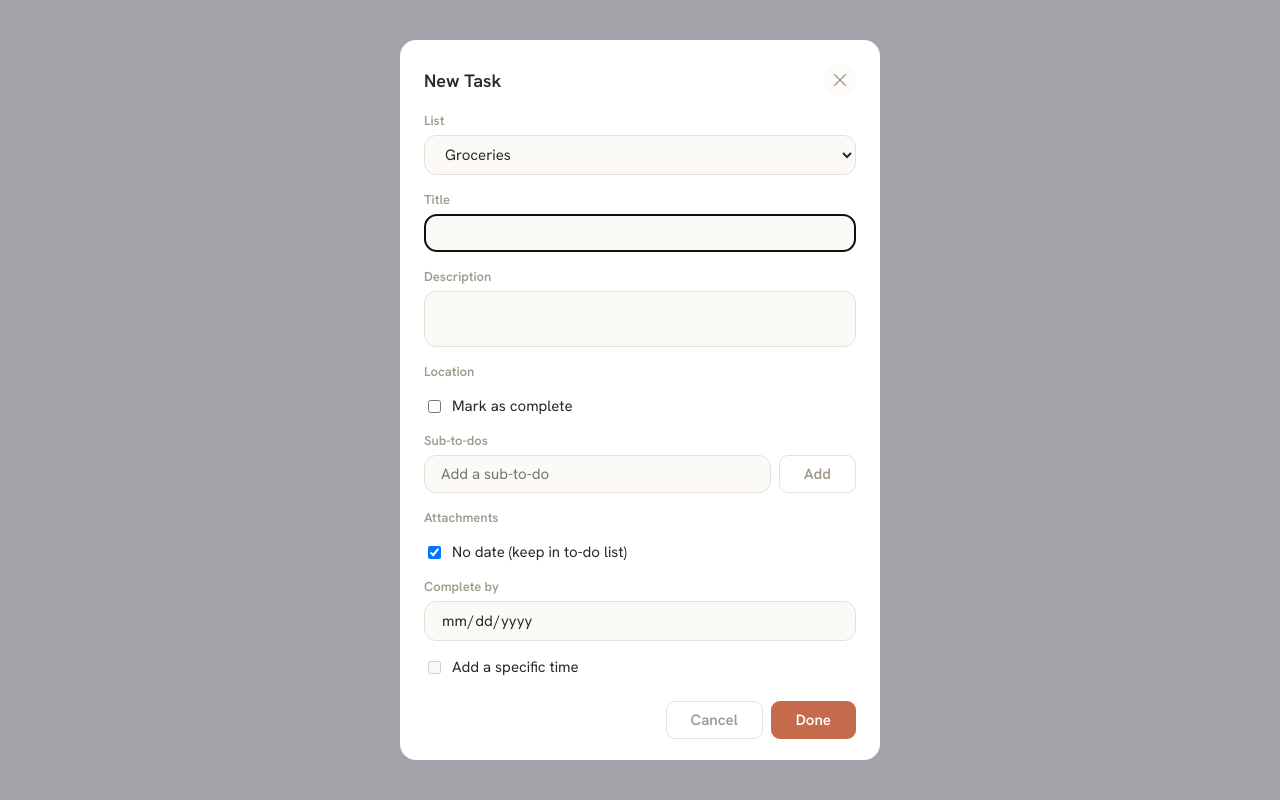
Scenario: PlanItemModal › keeps the old title when the rename is left empty
The image size is (1280, 800).
Type "Pack bag" into the field with placeholder "Add a sub-to-do". click: (597,474)
box: [424,455,771,493]
Then press Enter
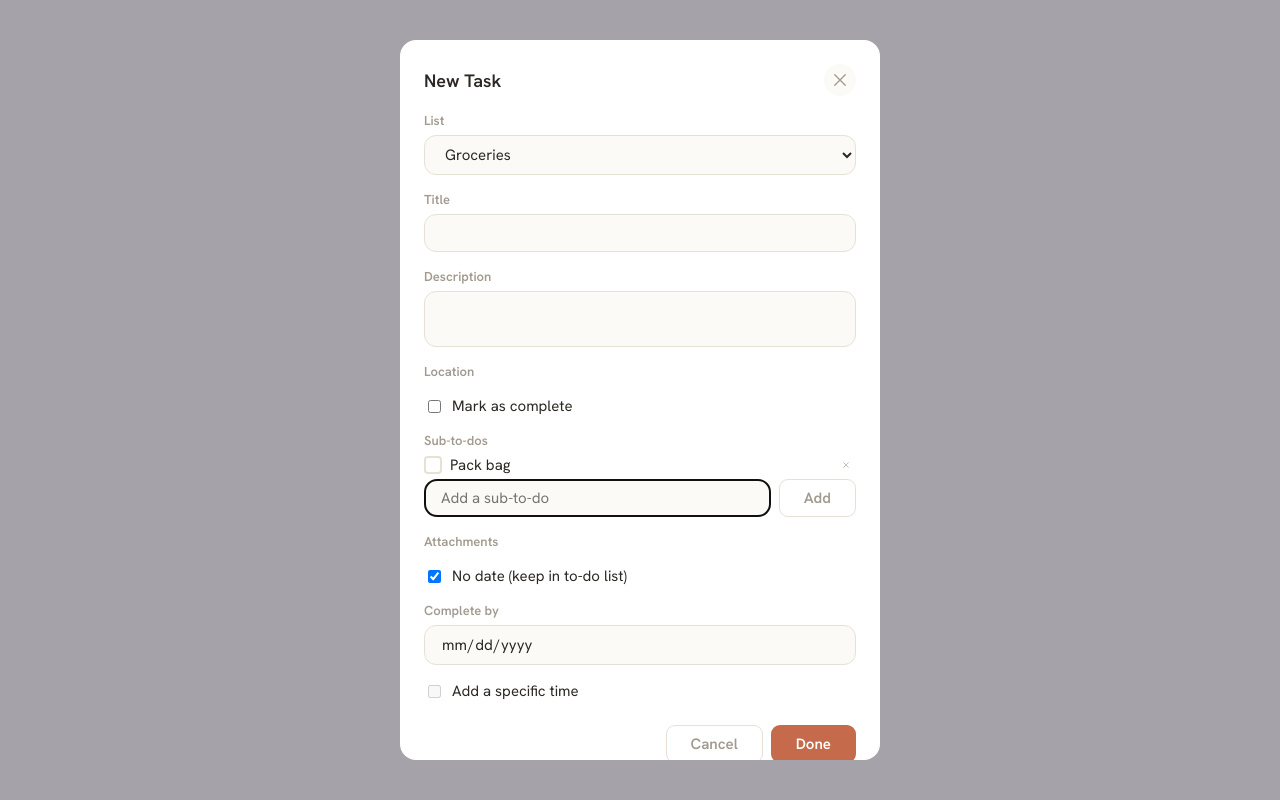
Click the button "Pack bag". click: (480,465)
box: [450,455,510,475]
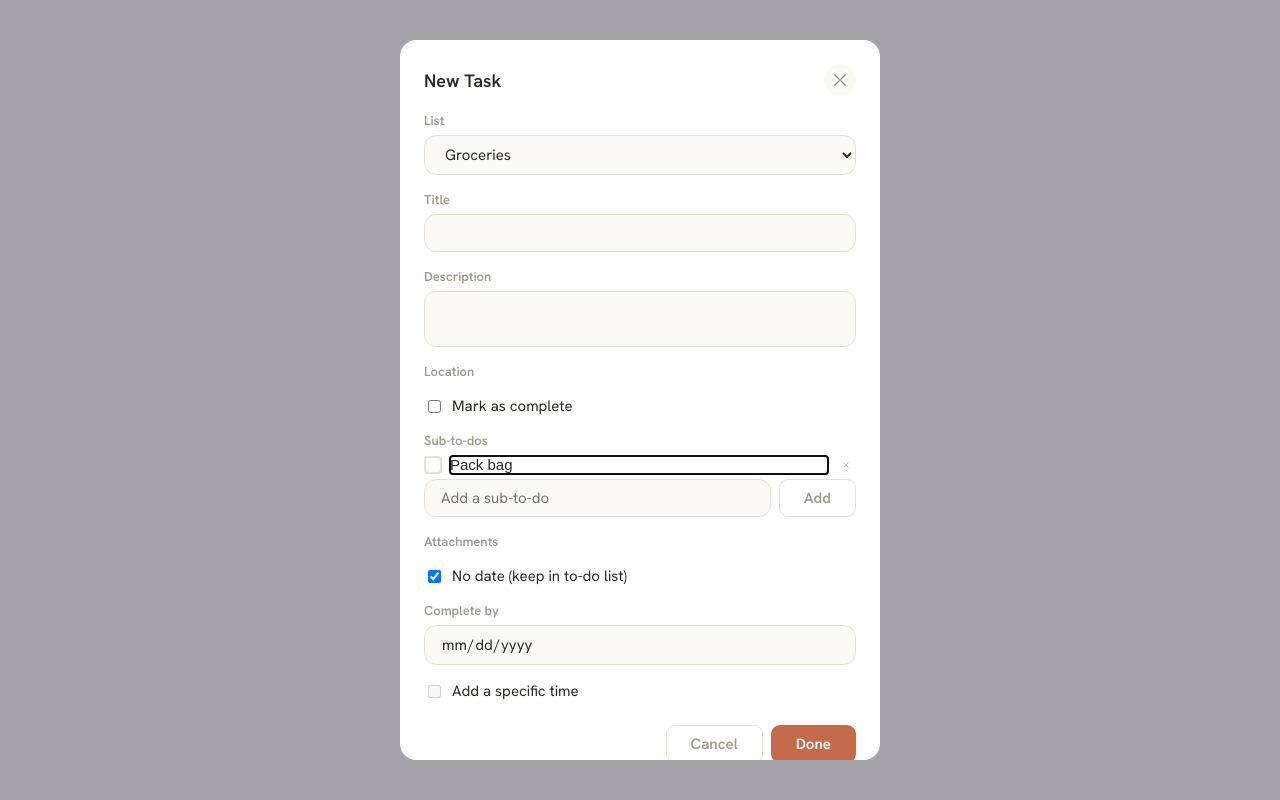
Clear the field named "Edit Pack bag". click: (639,465)
box: [450,456,828,474]
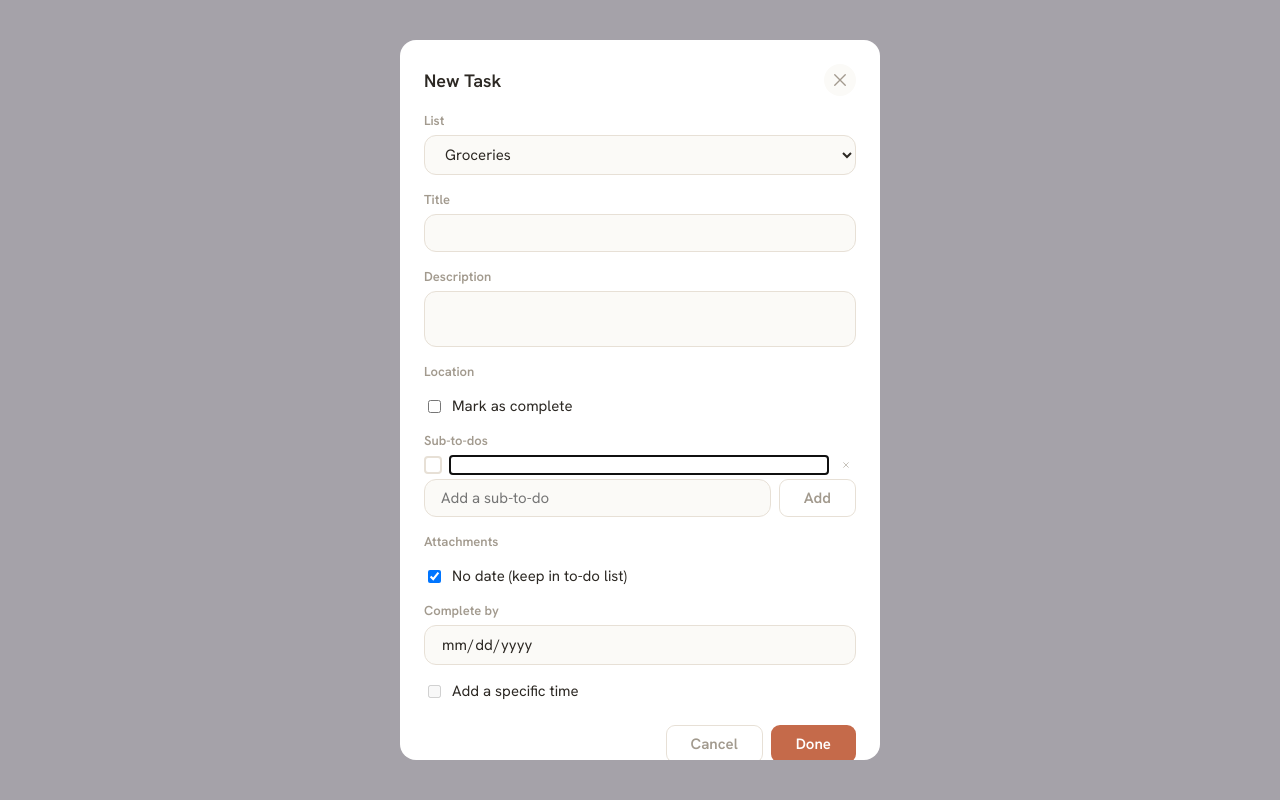
Press Tab
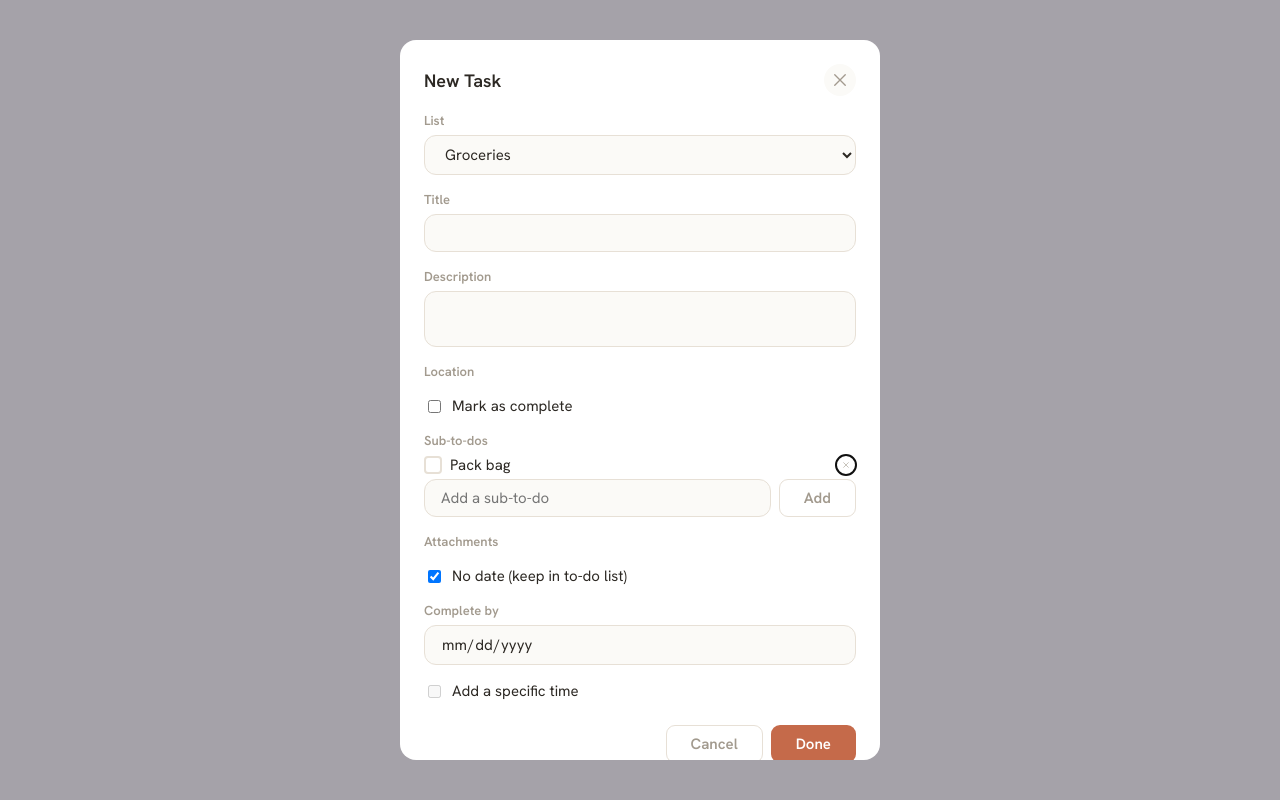
Expected: the button "Pack bag" is shown, [450,455,510,475]
